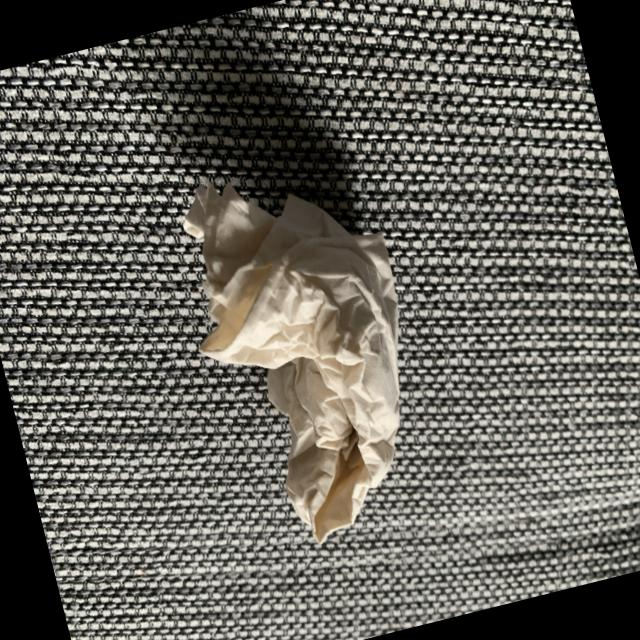organic waste: (153, 128, 461, 566)
